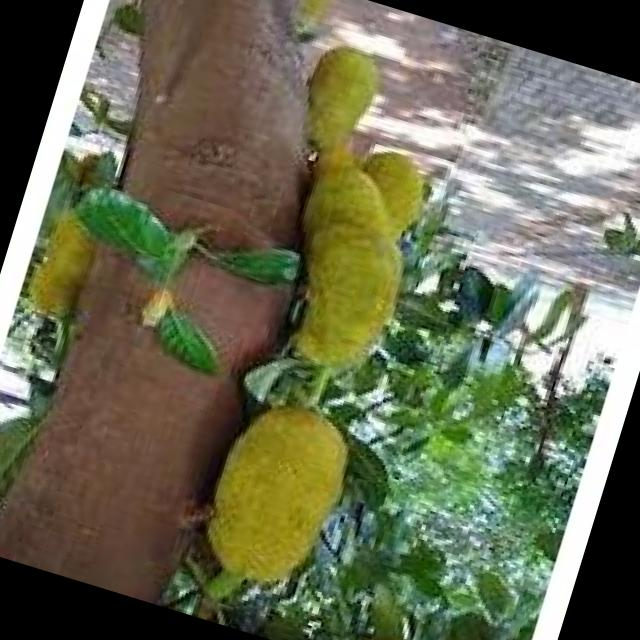Fruit: (195, 71, 477, 402), (151, 355, 393, 630)
